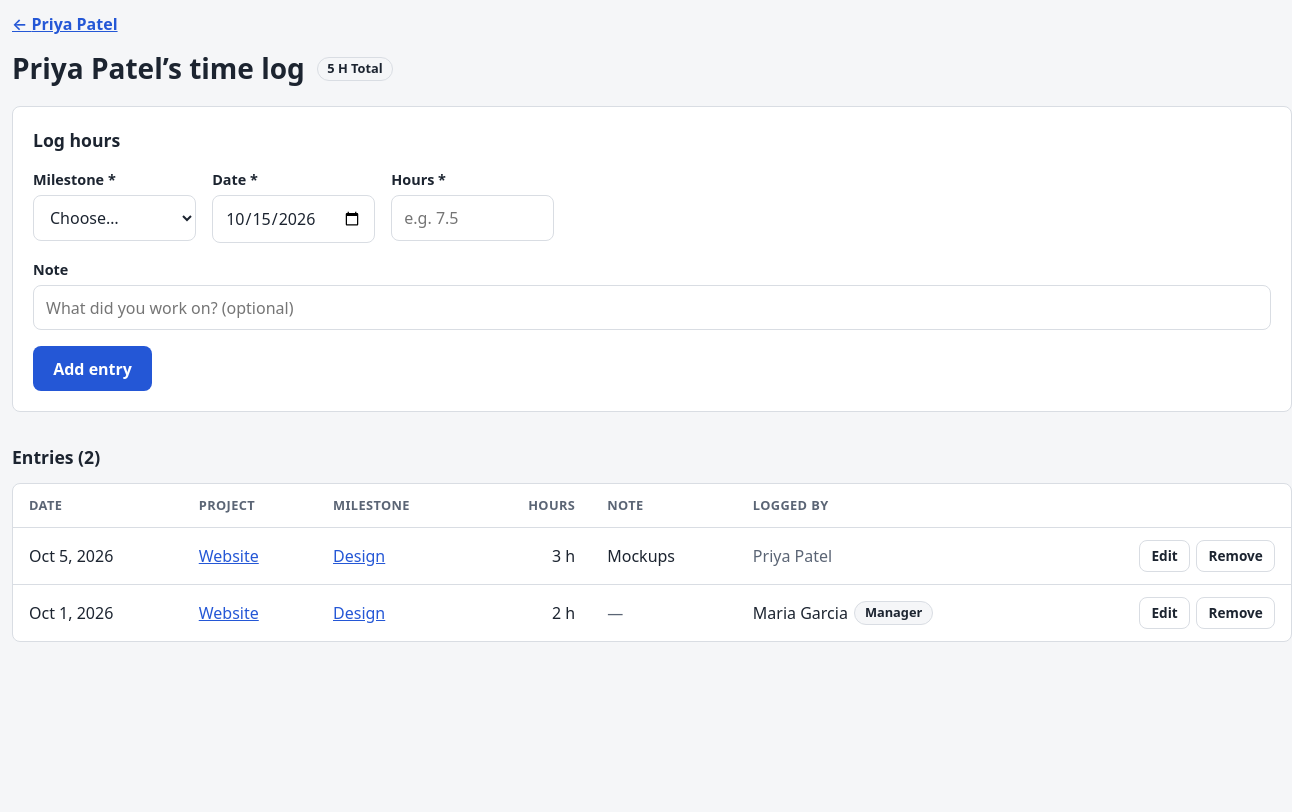
Test: TimeLogPage removing › shows an error when removing fails
Click the button with aria-label "Remove entry for Oct 5, 2026" at (1236, 556), box [1196,540,1275,572]
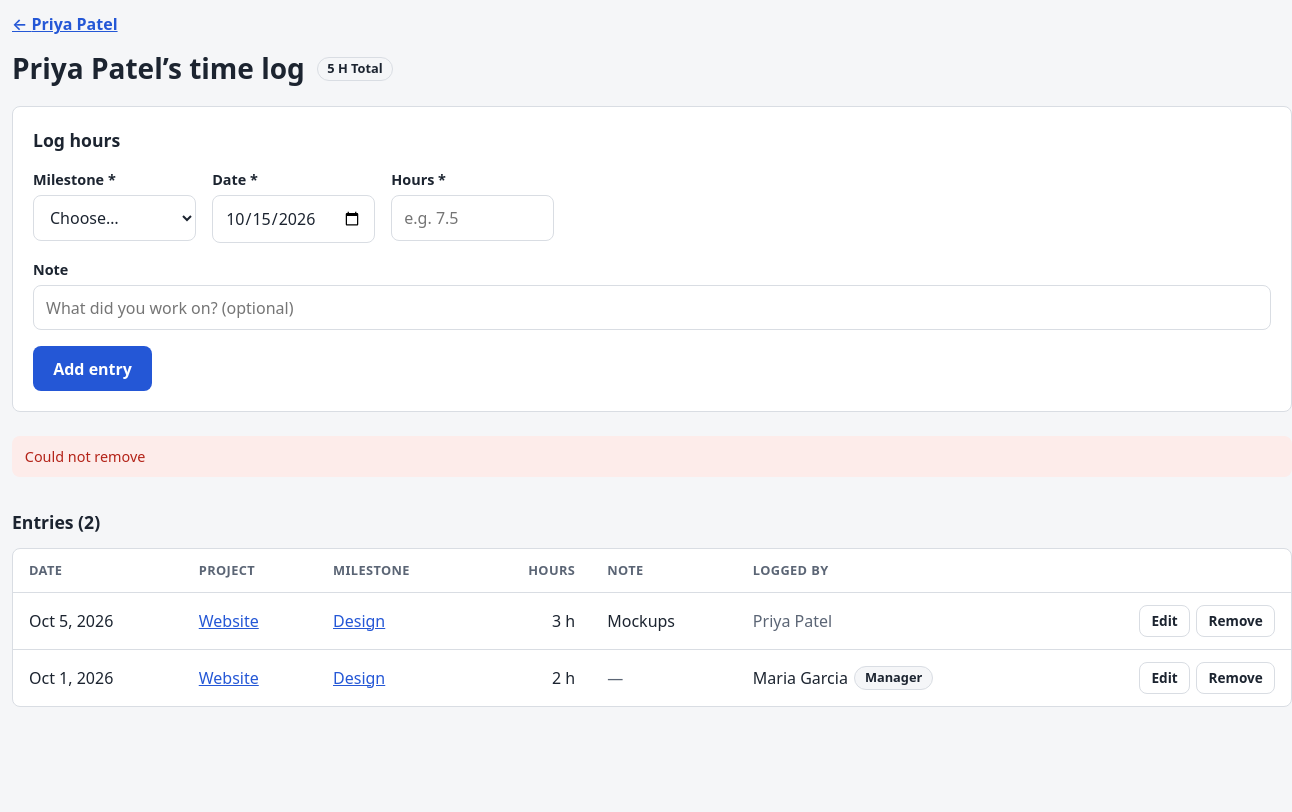
Expected: the button with aria-label "Remove entry for Oct 5, 2026" is enabled, [1196,605,1275,637]
Expected: the message reads "Could not remove", [25,447,145,466]
